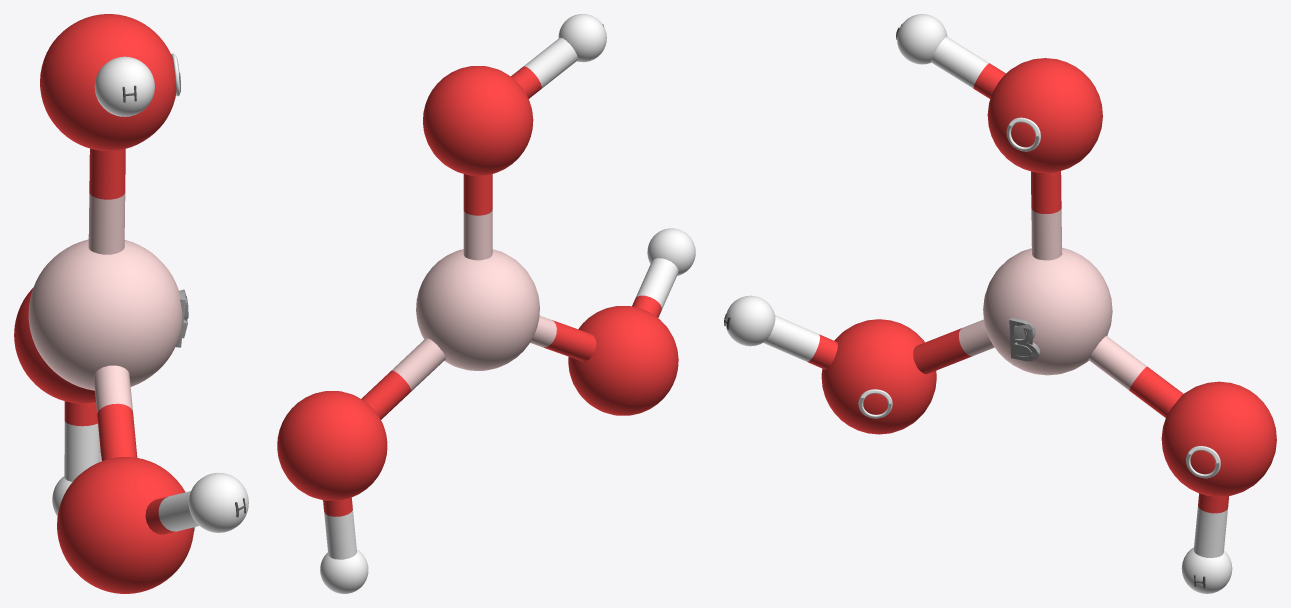
The model's file is boricacid.fbx.
3 views of the same model, side by side, from view 1: azimuth 30°, elevation 25°; view 2: azimuth 150°, elevation 25°; view 3: azimuth 270°, elevation 25° (orthographic). The views are drawn at different scales.
Parts seen in each view (by area): view 1: boric acid; view 2: boric acid; view 3: boric acid.
Part boxes in pixels (<box>): boric acid: <box>14,14,248,593</box>; boric acid: <box>277,14,695,593</box>; boric acid: <box>724,14,1276,593</box>.
Size of the model in its own units: 158 by 335 by 321.
